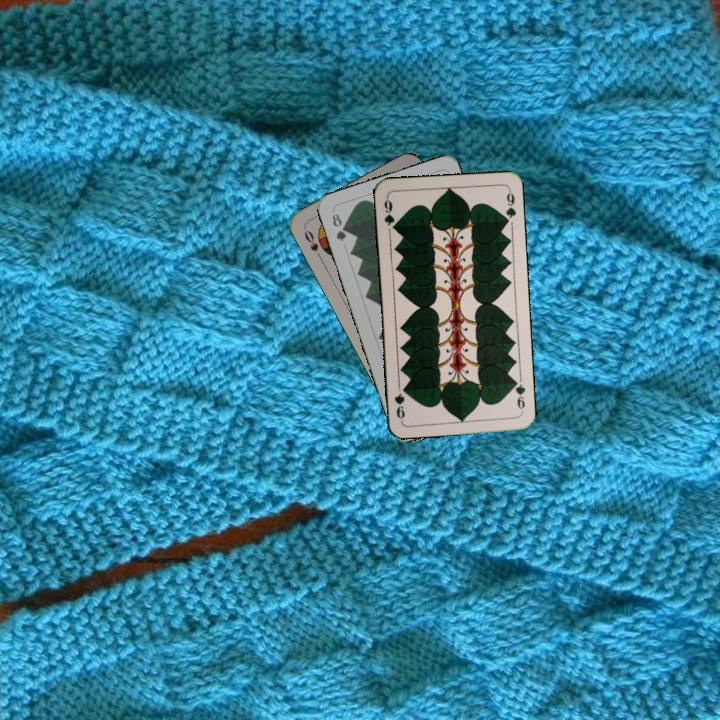G8: (328, 209, 349, 244)
G9: (380, 193, 399, 233), (509, 375, 528, 415)
SO: (300, 226, 324, 262)
